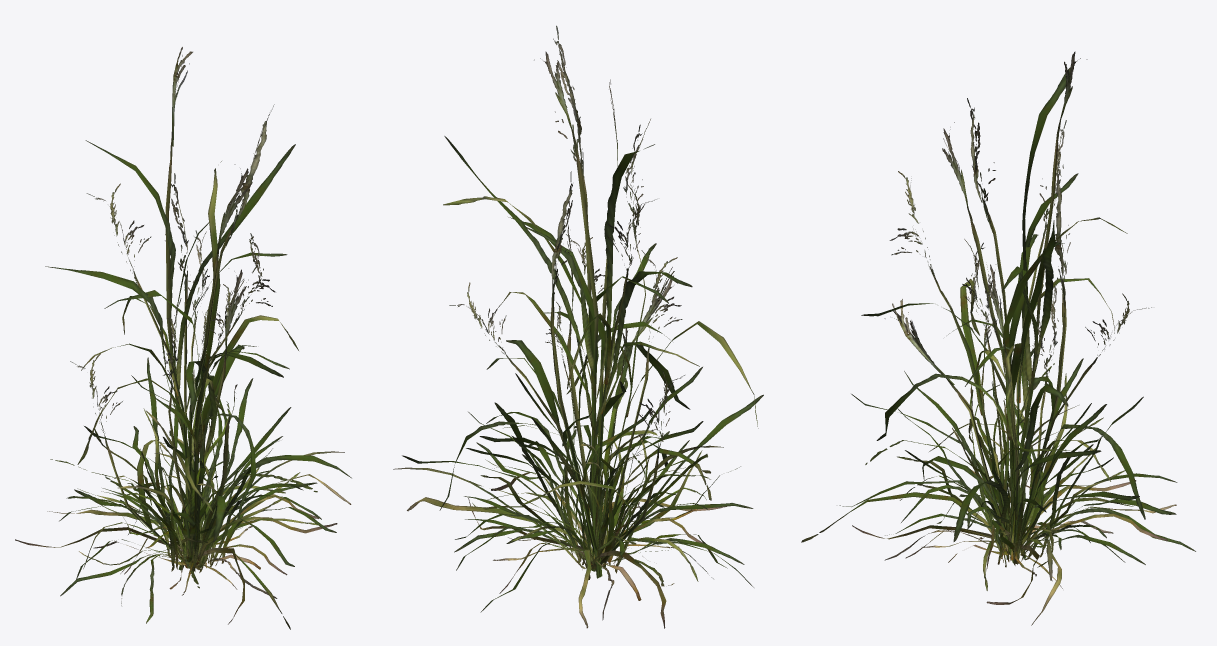
The model's file is grass_tufts.glb.
The picture shows the model from 3 angles, left to right: view 1: azimuth 30°, elevation 25°; view 2: azimuth 150°, elevation 25°; view 3: azimuth 270°, elevation 25°; orthographic projection. The views are drawn at different scales.
Visible parts, largest first — view 1: grass_medium_01_mid_b_LOD0, grass_medium_01_tall_b_LOD0, grass_medium_01_tall_a_LOD0, grass_medium_01_tall_c_LOD0, grass_medium_01_small_b_LOD0; view 2: grass_medium_01_mid_b_LOD0, grass_medium_01_tall_a_LOD0, grass_medium_01_tall_b_LOD0, grass_medium_01_tall_c_LOD0, grass_medium_01_small_b_LOD0; view 3: grass_medium_01_mid_b_LOD0, grass_medium_01_tall_a_LOD0, grass_medium_01_tall_b_LOD0, grass_medium_01_tall_c_LOD0, grass_medium_01_small_b_LOD0.
Part boxes in pixels (bbox=[...]): grass_medium_01_mid_b_LOD0: bbox=[15, 279, 351, 629]; grass_medium_01_tall_b_LOD0: bbox=[77, 104, 298, 559]; grass_medium_01_tall_a_LOD0: bbox=[45, 47, 295, 571]; grass_medium_01_tall_c_LOD0: bbox=[70, 173, 351, 574]; grass_medium_01_small_b_LOD0: bbox=[50, 401, 317, 623]; grass_medium_01_mid_b_LOD0: bbox=[393, 234, 763, 628]; grass_medium_01_tall_a_LOD0: bbox=[439, 51, 692, 571]; grass_medium_01_tall_b_LOD0: bbox=[443, 25, 758, 537]; grass_medium_01_tall_c_LOD0: bbox=[486, 171, 711, 581]; grass_medium_01_small_b_LOD0: bbox=[454, 371, 753, 620]; grass_medium_01_mid_b_LOD0: bbox=[801, 264, 1176, 625]; grass_medium_01_tall_a_LOD0: bbox=[861, 51, 1151, 563]; grass_medium_01_tall_b_LOD0: bbox=[876, 98, 1127, 541]; grass_medium_01_tall_c_LOD0: bbox=[884, 161, 1110, 562]; grass_medium_01_small_b_LOD0: bbox=[865, 363, 1195, 590].
Bounding box in the file's own units: 0.2035 × 0.3246 × 0.2112.
1 material, 1 textured.
